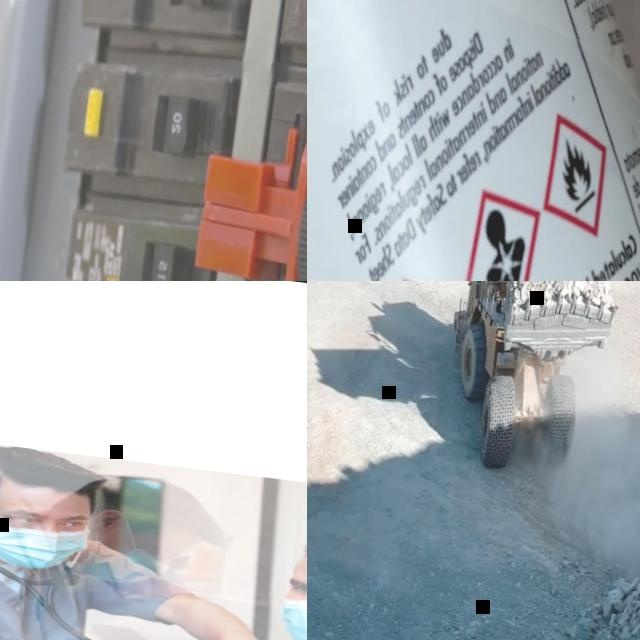Mask: (85, 542, 182, 587), (0, 519, 83, 571), (275, 594, 307, 640)
NO-Hardhat: (77, 473, 238, 542), (0, 442, 104, 508), (90, 623, 180, 640)
Person: (0, 438, 307, 640), (71, 467, 236, 581)
machinery: (433, 281, 625, 493)
